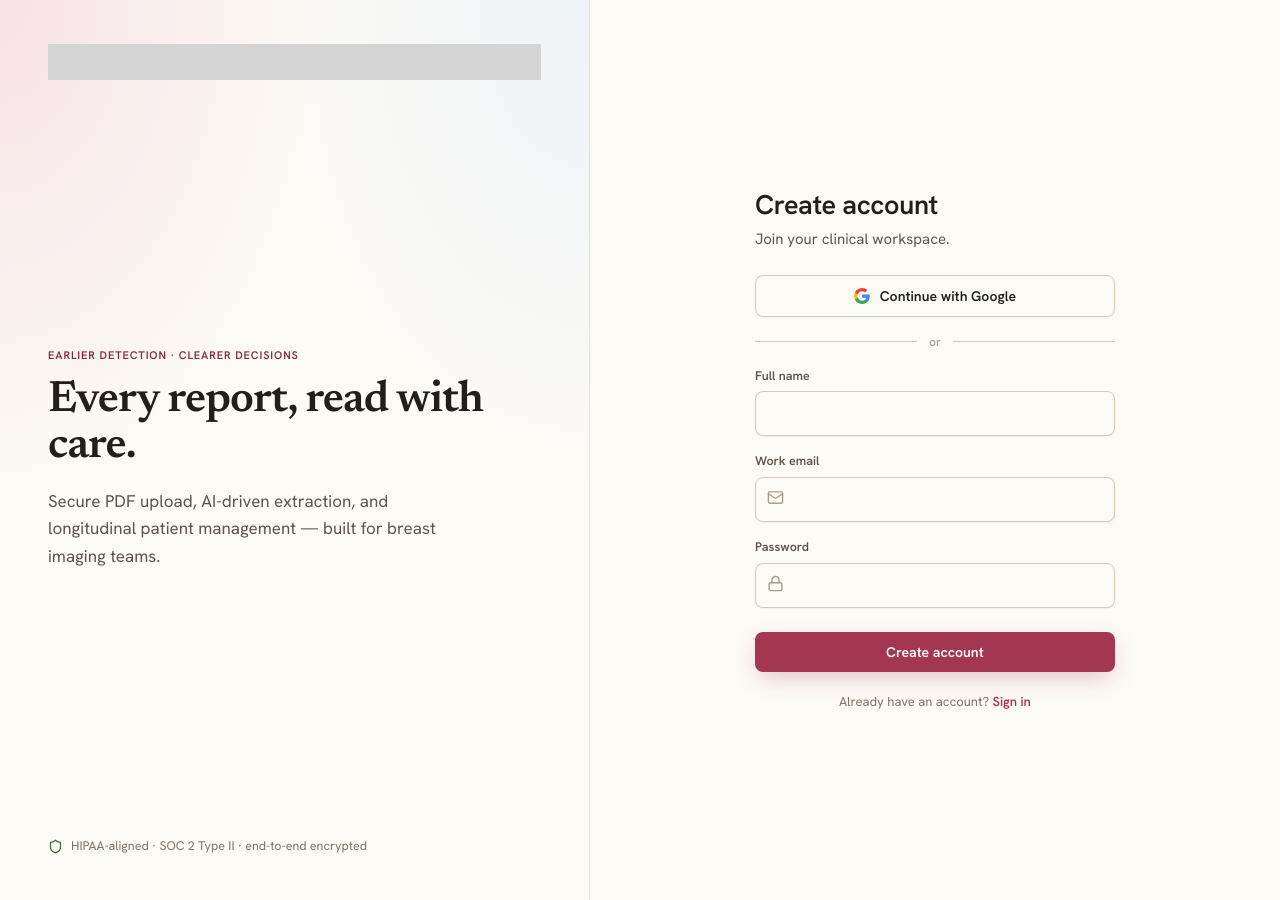
Test: SignUp page › shows confirmation state after successful sign-up
The image size is (1280, 900).
Type "Alice Kaur" into the field labelled "Full name" at (935, 414), box [755, 391, 1115, 436]
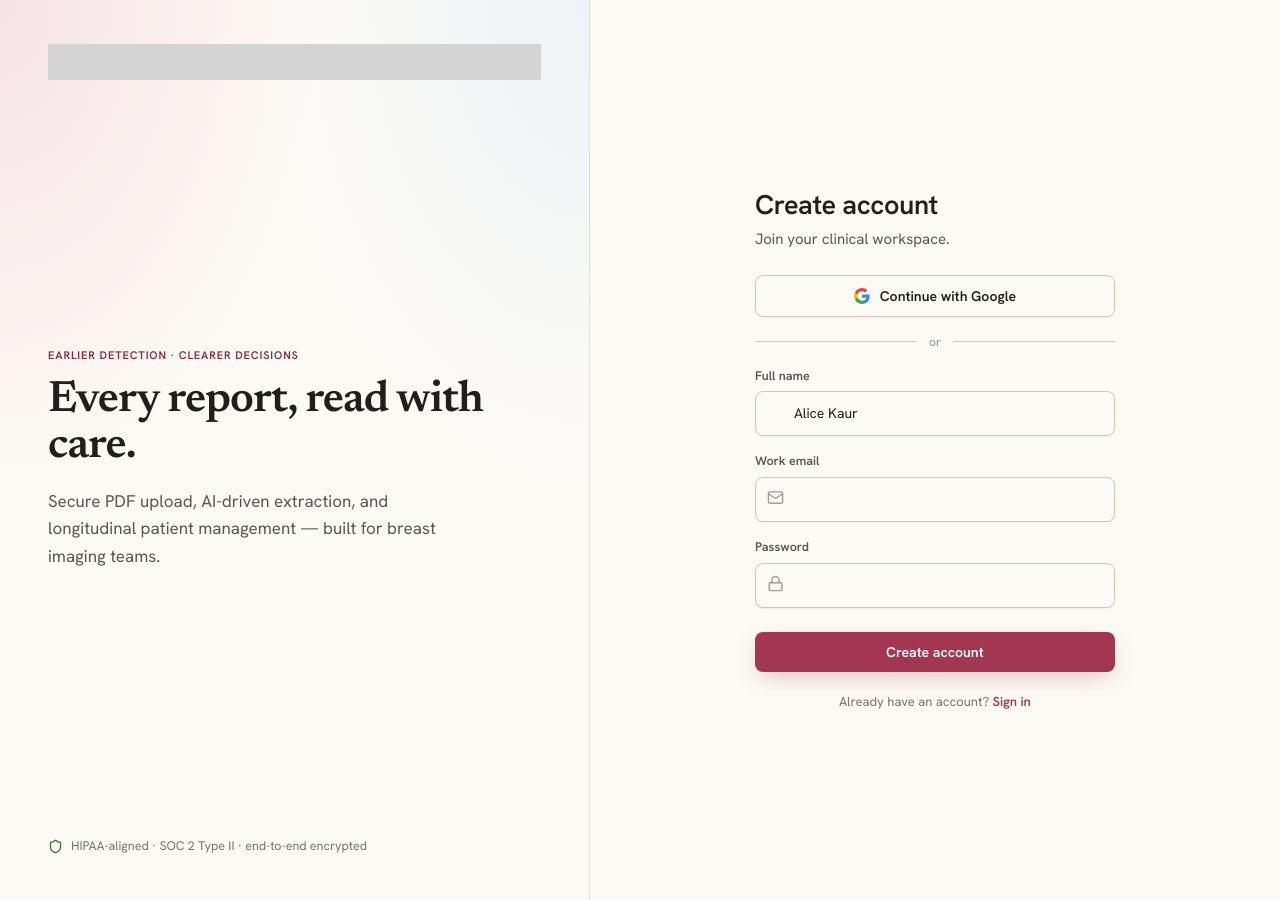
Type "alice@clinic.org" into the field labelled "Work email" at (935, 500), box [755, 477, 1115, 522]
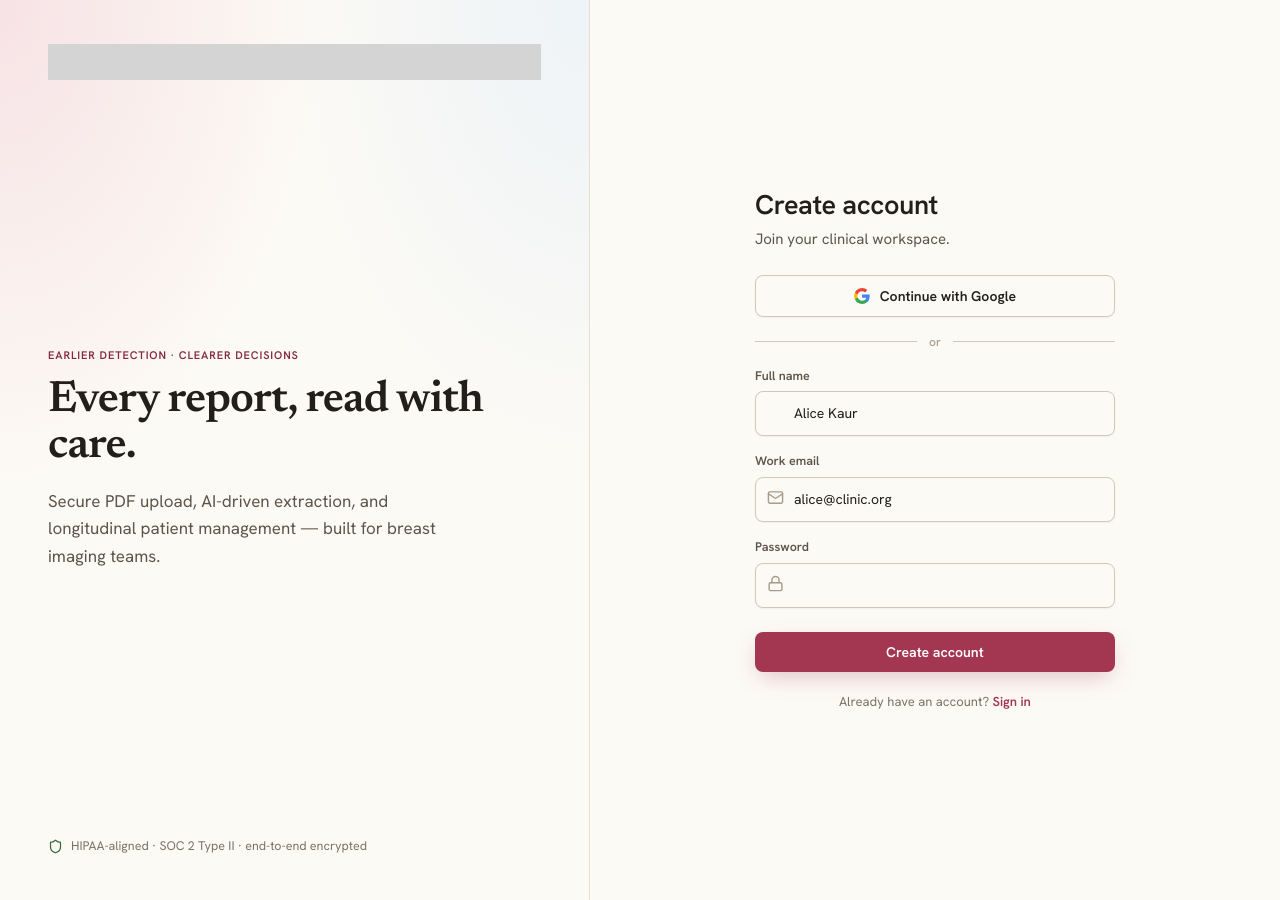
Type "password123" into the password field labelled "Password" at (935, 585), box [755, 563, 1115, 608]
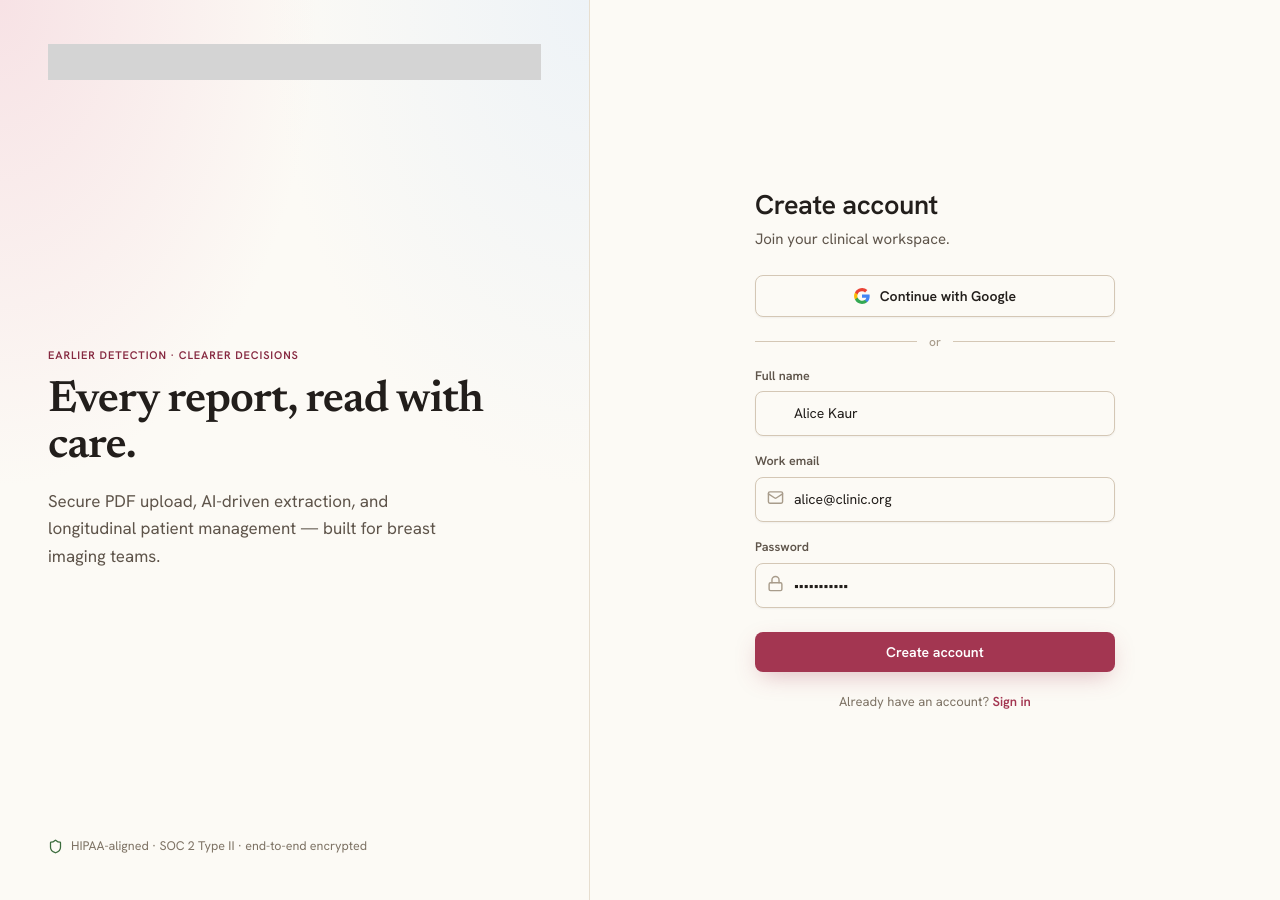
Click the button "Create account" at (935, 652), box [755, 632, 1115, 672]
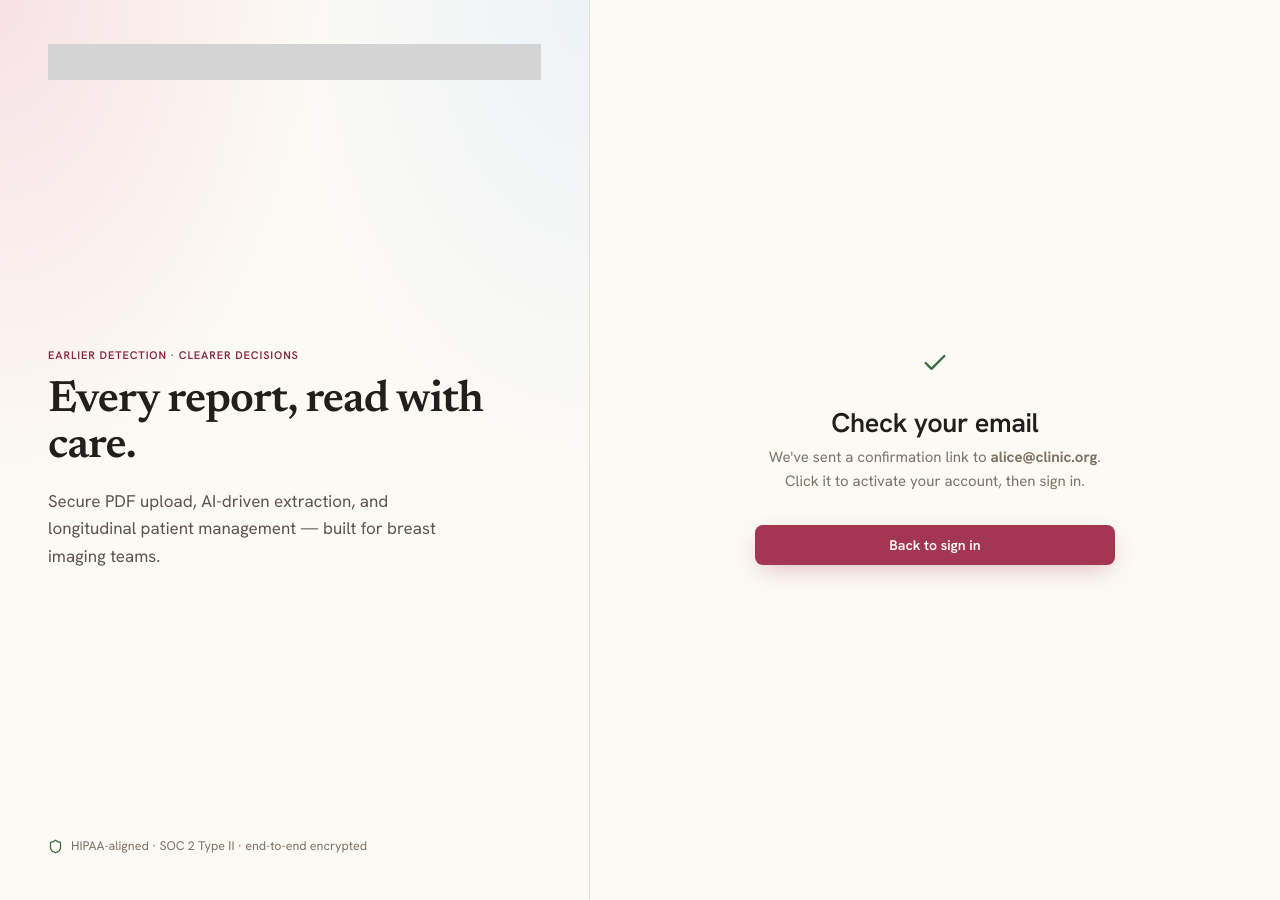
Check: the heading "Check your email" is shown, box [831, 405, 1039, 440]
Check: the text "alice@clinic.org" is shown, box [990, 447, 1097, 467]
